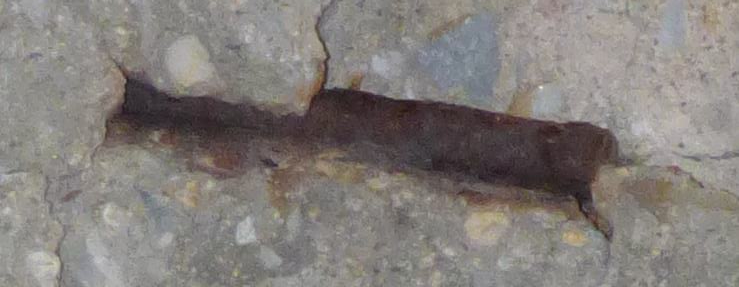Exposed reinforcement: (121, 72, 618, 192)
